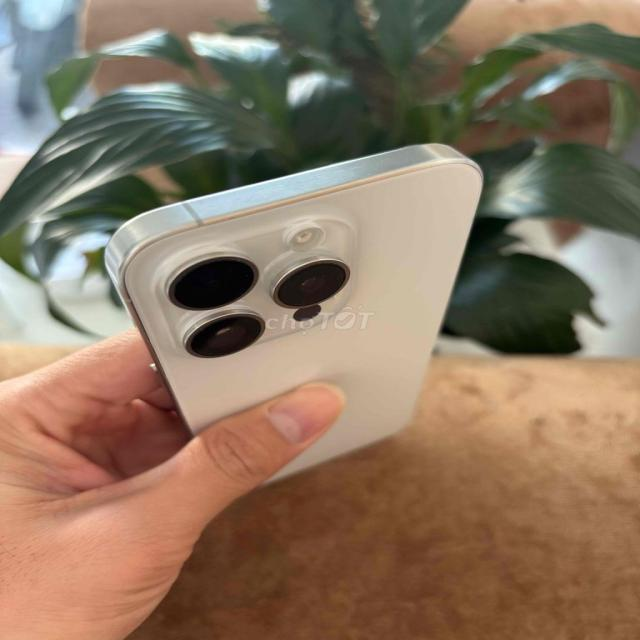gen_15: (97, 135, 480, 508)
